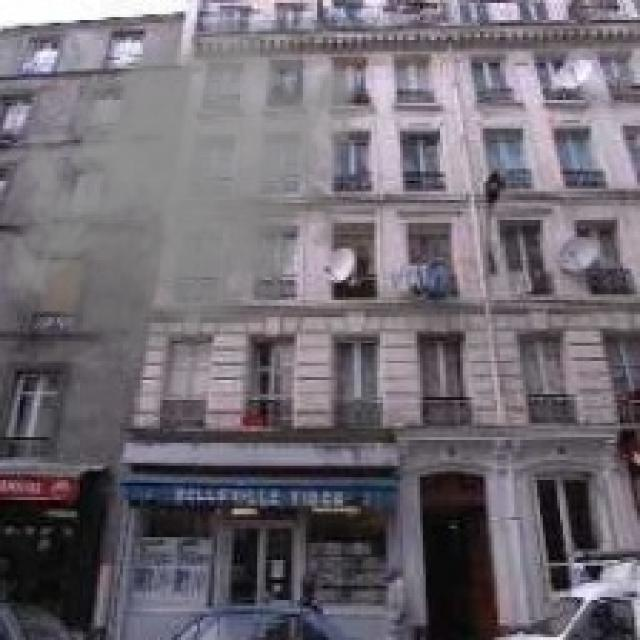smoke: (0, 8, 363, 386)
